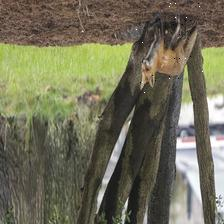fox: (136, 3, 206, 93)
